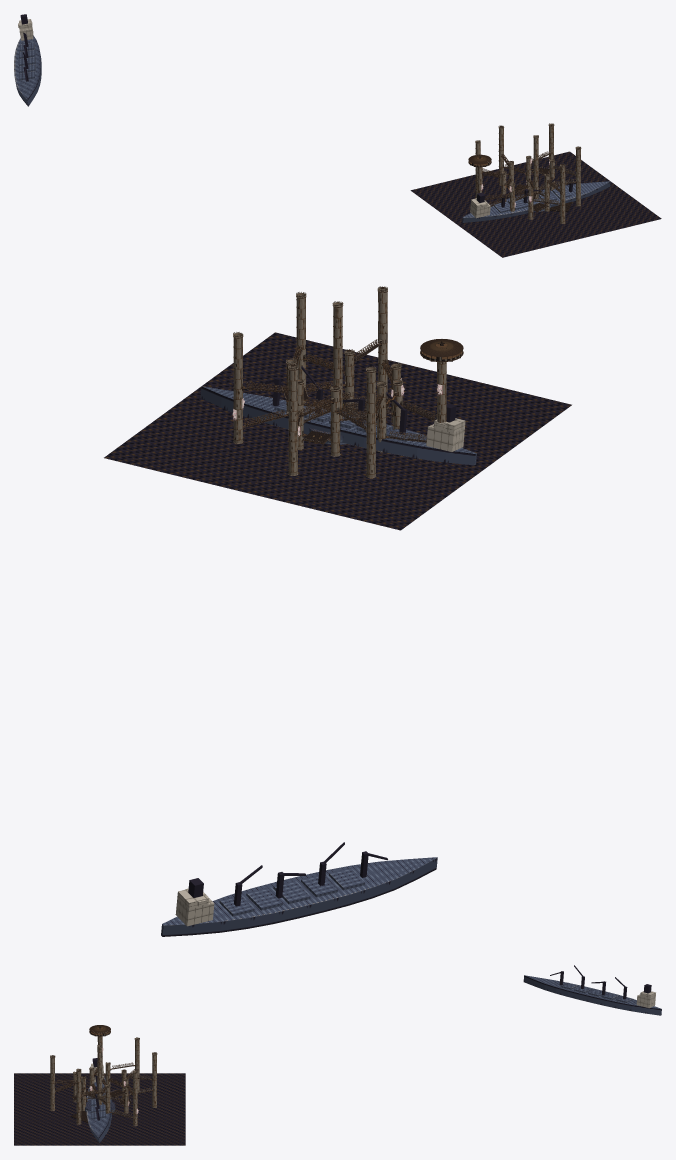
Rendered from petrolera.gltf.
3 renders of one model, top to bottom at view 1: azimuth 30°, elevation 25°; view 2: azimuth 150°, elevation 25°; view 3: azimuth 270°, elevation 25°, orthographic. The views are drawn at different scales.
Parts seen in each view (by area): view 1: MAR-03_Carguero_en_el_horizonte, MAR-03_Carguero_en_el_horizonte.001; view 2: MAR-03_Carguero_en_el_horizonte.001, MAR-03_Carguero_en_el_horizonte; view 3: MAR-03_Carguero_en_el_horizonte.001, MAR-03_Carguero_en_el_horizonte.
Boxes of the visible parts, left/top/right/bottom form: MAR-03_Carguero_en_el_horizonte: left=462, top=173, right=610, bottom=222; MAR-03_Carguero_en_el_horizonte.001: left=14, top=14, right=41, bottom=106; MAR-03_Carguero_en_el_horizonte.001: left=161, top=842, right=437, bottom=936; MAR-03_Carguero_en_el_horizonte: left=200, top=366, right=476, bottom=465; MAR-03_Carguero_en_el_horizonte.001: left=523, top=965, right=661, bottom=1015; MAR-03_Carguero_en_el_horizonte: left=86, top=1058, right=111, bottom=1142.
Size of what is drawn, in the model's own units: 416 by 91.24 by 695.
25 materials, 25 textured.
